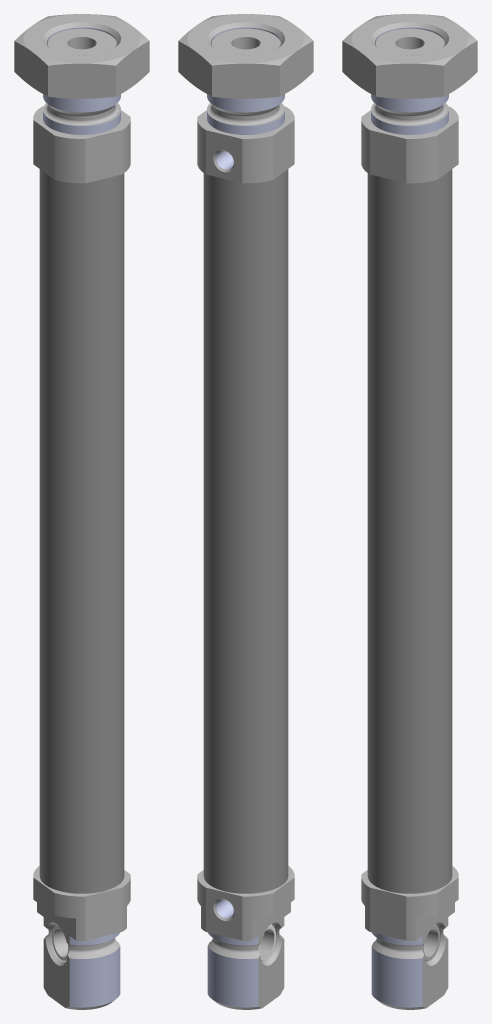
File: 19204_DSNU_16_125_P_A____0_CYLINDER.glb
The picture shows the model from 3 angles, left to right: view 1: azimuth 30°, elevation 25°; view 2: azimuth 150°, elevation 25°; view 3: azimuth 330°, elevation 25°; orthographic projection.
Parts seen in each view (by area): view 1: 19204_DSNU_16_125_P_A____0_CYLINDER.IGS (×2); view 2: 19204_DSNU_16_125_P_A____0_CYLINDER.IGS (×2); view 3: 19204_DSNU_16_125_P_A____0_CYLINDER.IGS (×2).
Part boxes in pixels (x1,y1,x2,y2): 19204_DSNU_16_125_P_A____0_CYLINDER.IGS (×2): [14, 14, 149, 1009]; 19204_DSNU_16_125_P_A____0_CYLINDER.IGS (×2): [178, 14, 313, 1009]; 19204_DSNU_16_125_P_A____0_CYLINDER.IGS (×2): [342, 14, 477, 1009].
Bounding box in the file's own units: 0.024 × 0.216 × 0.0277.
